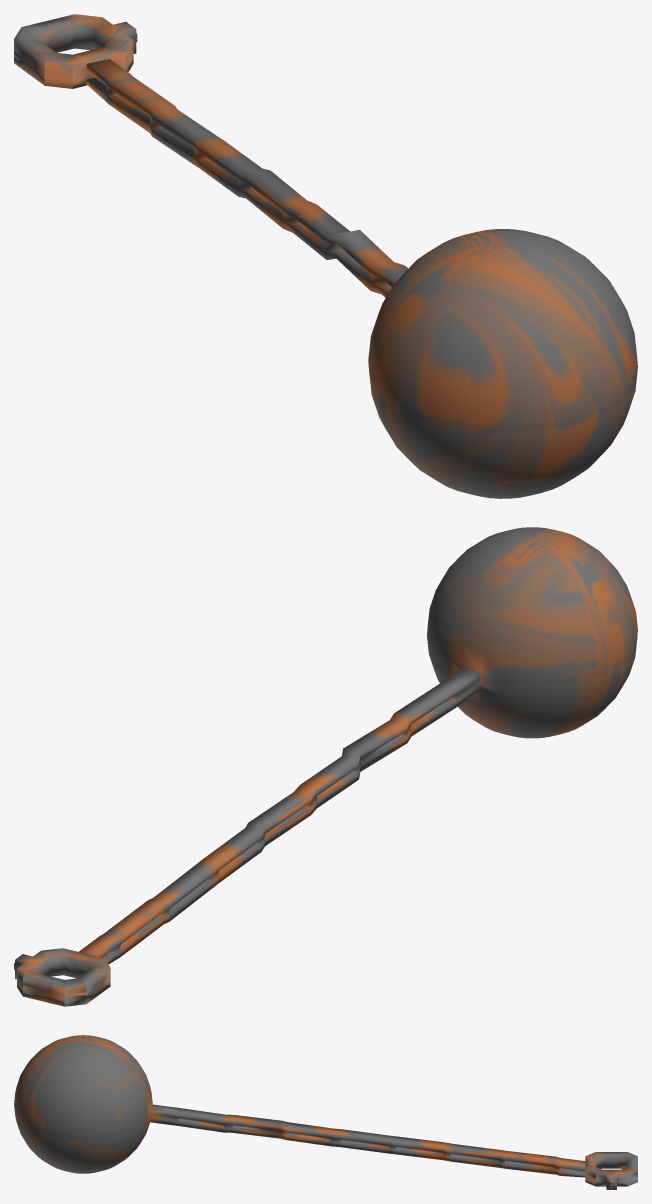
The model's file is ballchain.glb.
3 renders of one model, top to bottom at view 1: azimuth 30°, elevation 25°; view 2: azimuth 150°, elevation 25°; view 3: azimuth 270°, elevation 25°, orthographic. The views are drawn at different scales.
Visible parts, largest first — view 1: Sphere, Shackle; view 2: Sphere, Shackle; view 3: Sphere, Shackle.
Boxes of the visible parts, x1,y1,x2,y2 form: Sphere: (86, 59, 637, 498); Shackle: (14, 14, 137, 88); Sphere: (79, 527, 637, 964); Shackle: (14, 948, 110, 1006); Sphere: (14, 1035, 585, 1177); Shackle: (585, 1152, 637, 1189).
Bounding box in the file's own units: 2.25 × 2 × 8.99.
2 materials, 2 textured.
